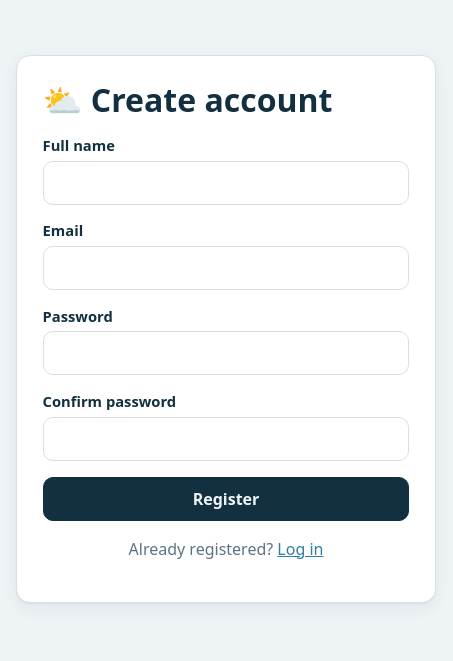
Scenario: Register form › shows validation errors for bad input
In the field labelled "Full name": (226, 183) [43,161,409,205], type "Kiran"
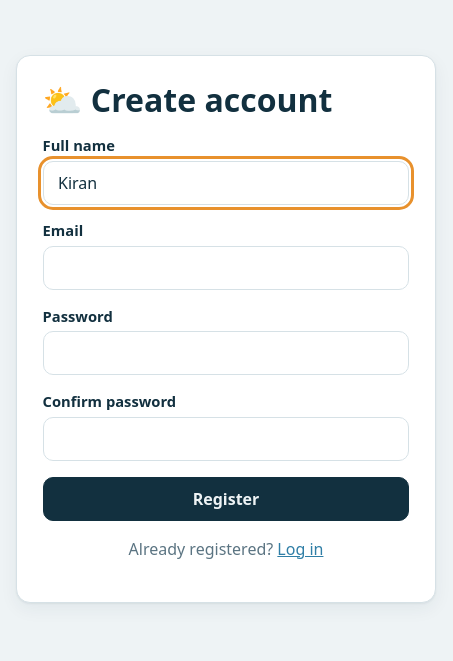
In the field labelled "Email": (226, 268) [43,246,409,290], type "not-an-email"
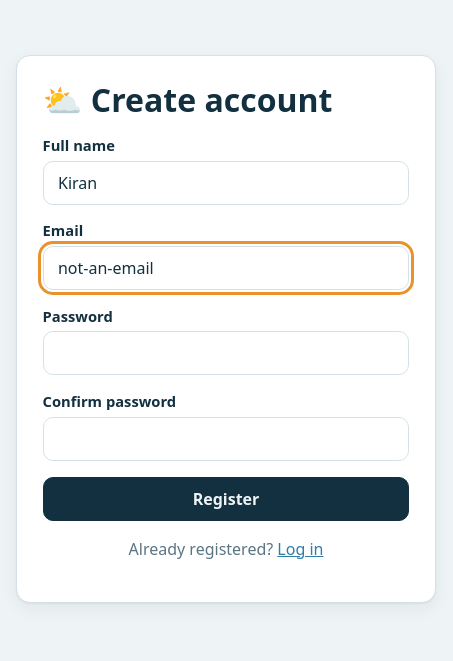
In the password field labelled "Password": (226, 354) [43,332,409,376], type "short"
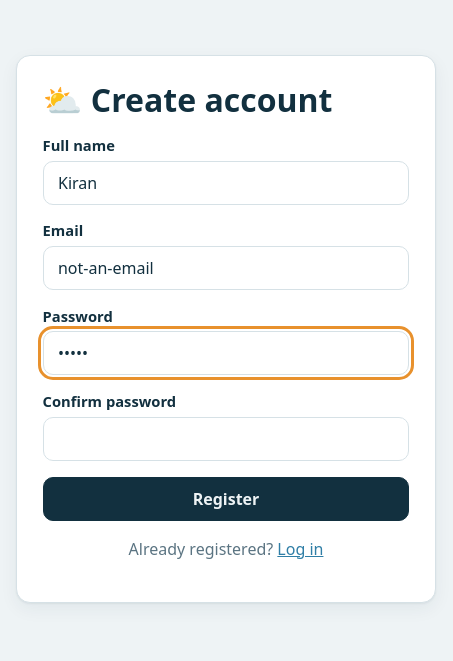
In the password field labelled "Confirm password": (226, 439) [43,417,409,461], type "other"
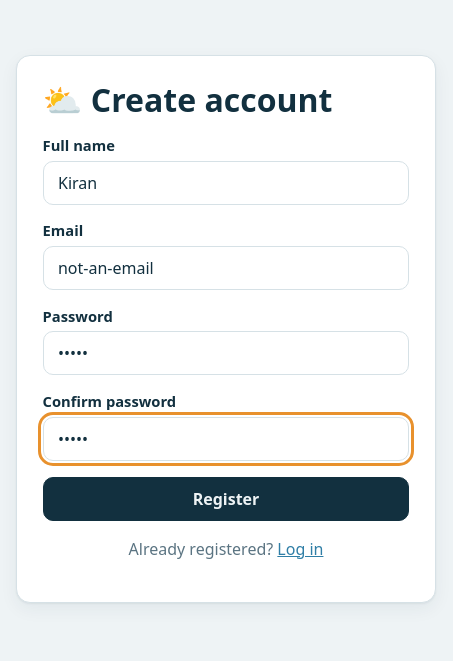
Click the button "Register": (226, 499) [43,477,409,521]
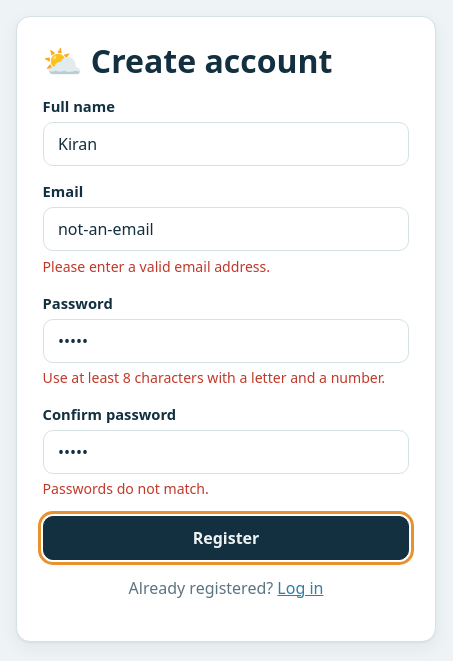
Expected: the text "Please enter a valid email address." is shown, [43,257,270,276]
Expected: the text "Use at least 8 characters with a letter and a number." is shown, [43,367,409,388]
Expected: the text "Passwords do not match." is shown, [43,480,209,498]
